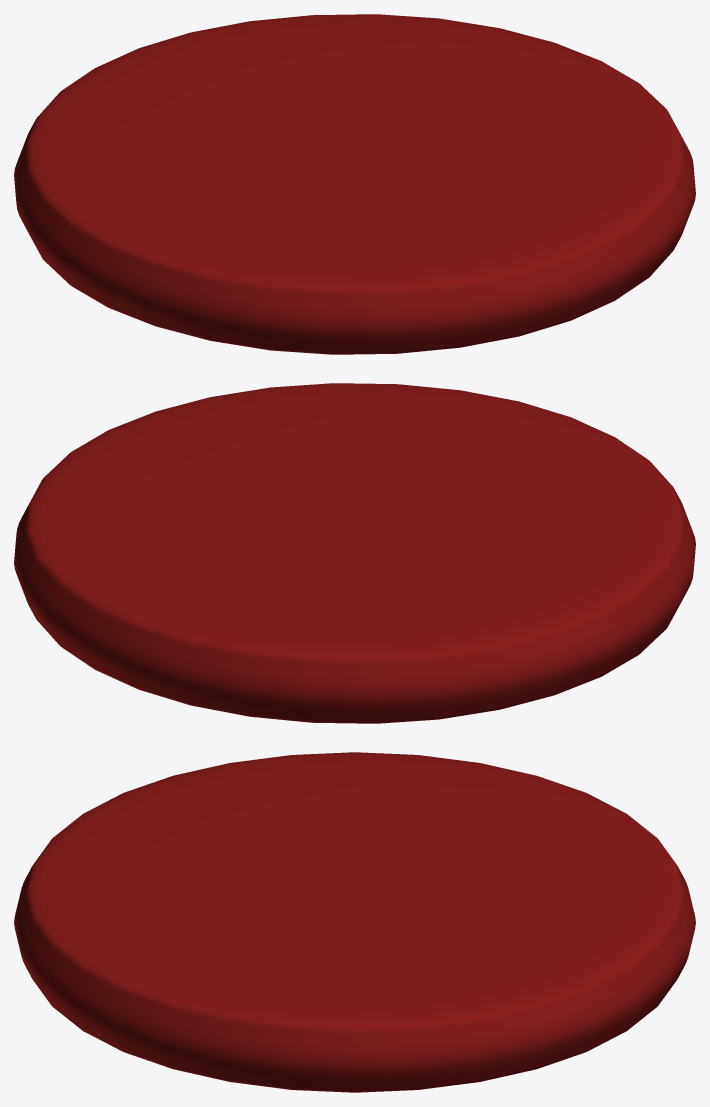
File: Cutlet.fbx
3 views of the same model, one above another, from view 1: azimuth 30°, elevation 25°; view 2: azimuth 150°, elevation 25°; view 3: azimuth 270°, elevation 25° (orthographic).
Visible parts, largest first — view 1: Cutlet; view 2: Cutlet; view 3: Cutlet.
Boxes of the visible parts, x1,y1,x2,y2 form: Cutlet: [14, 14, 695, 354]; Cutlet: [14, 383, 695, 723]; Cutlet: [14, 752, 695, 1092].
Bounding box in the file's own units: 1174 × 141 × 1174.
